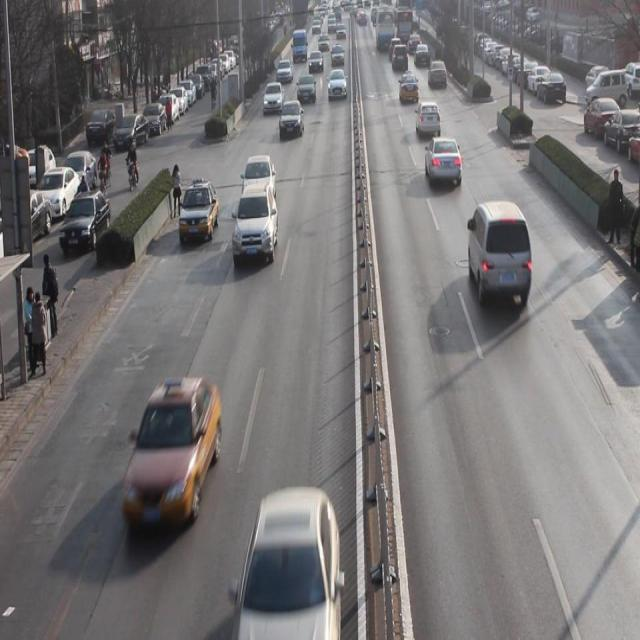car: (239, 490, 339, 640), (127, 379, 223, 535), (235, 187, 280, 265), (178, 180, 220, 243), (425, 136, 463, 191), (241, 156, 276, 201), (279, 96, 304, 140), (415, 98, 441, 139), (399, 67, 419, 105)
truck: (467, 201, 533, 315)
